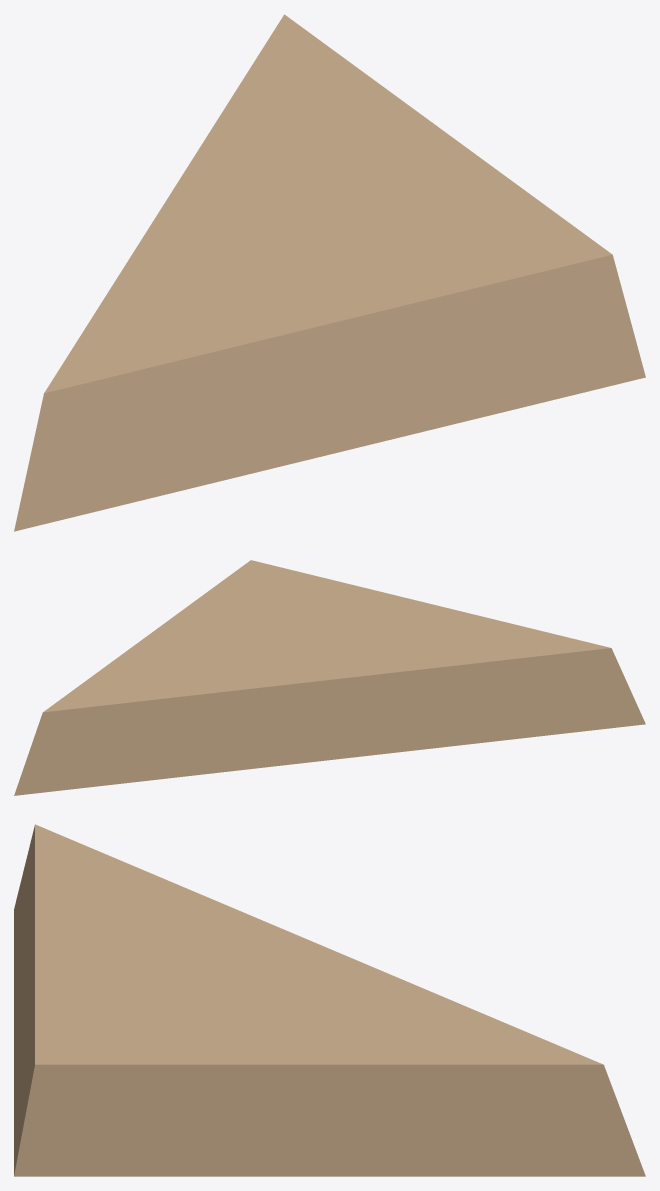
The model's file is Rock_Flat_s_05.fbx.
The picture shows the model from 3 angles, top to bottom: view 1: azimuth 30°, elevation 25°; view 2: azimuth 150°, elevation 25°; view 3: azimuth 270°, elevation 25°; orthographic projection. The views are drawn at different scales.
Parts seen in each view (by area): view 1: Rock_Flat_s_05; view 2: Rock_Flat_s_05; view 3: Rock_Flat_s_05.
Boxes of the visible parts, x1=… form: Rock_Flat_s_05: x1=14, y1=14, x2=645, y2=531; Rock_Flat_s_05: x1=14, y1=560, x2=645, y2=795; Rock_Flat_s_05: x1=14, y1=824, x2=645, y2=1176.
Bounding box in the file's own units: 50.4 × 9.07 × 50.4.
